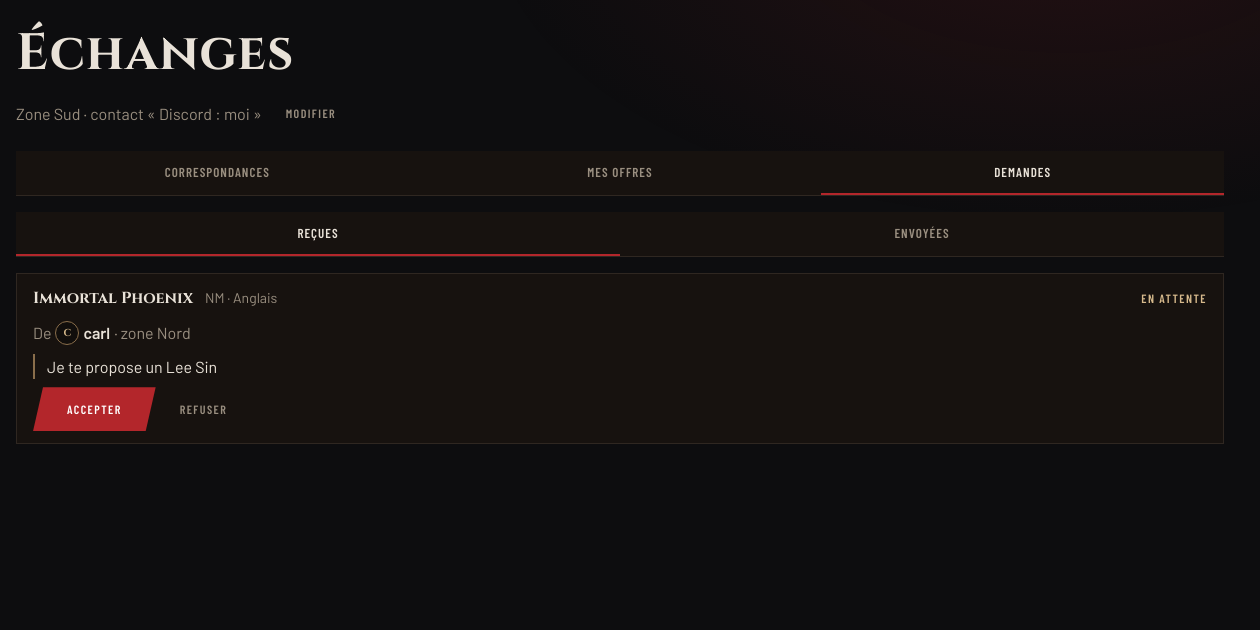
TradesView › liste les demandes, accepte et ne montre le contact qu'après accord
This screenshot has width=1260, height=630.
Expected: the list item with class "demande" shows "carl", [55, 320, 110, 346]
Expected: the list item with class "demande" shows "Je te propose un Lee Sin", [47, 357, 217, 376]
Click the button "Accepter". click: (94, 409)
box: [33, 387, 156, 431]
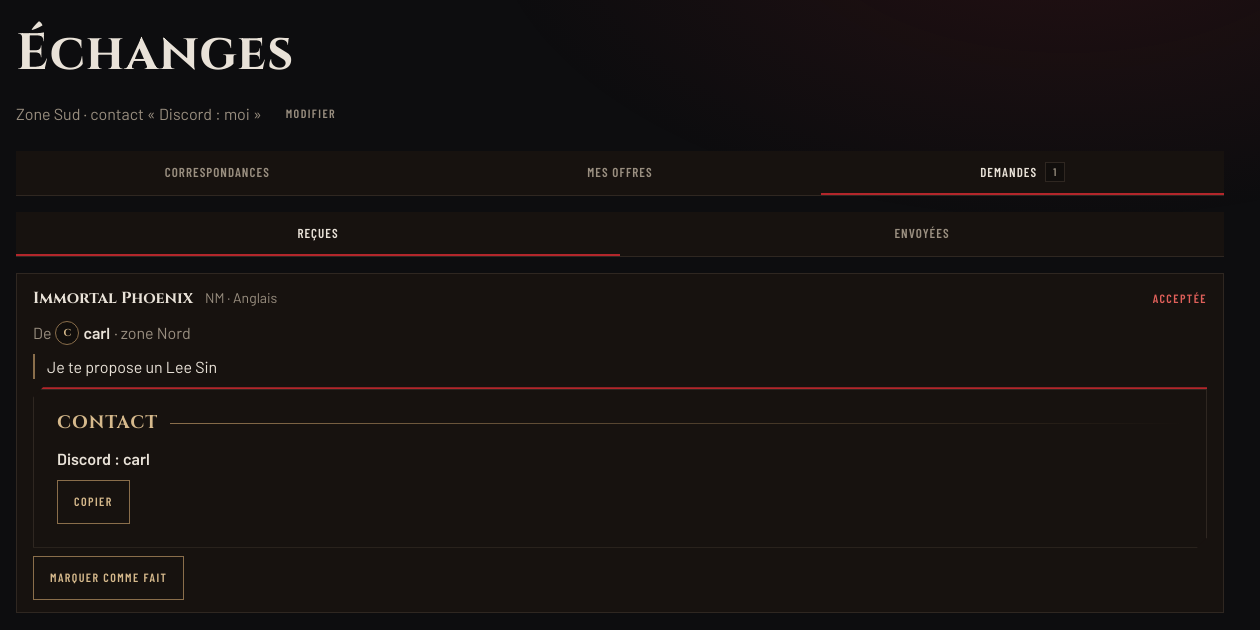
Expected: the list item with class "demande" shows "Discord : carl", [57, 449, 150, 468]
Click the tab "Envoyées". click: (922, 234)
box: [620, 212, 1224, 256]
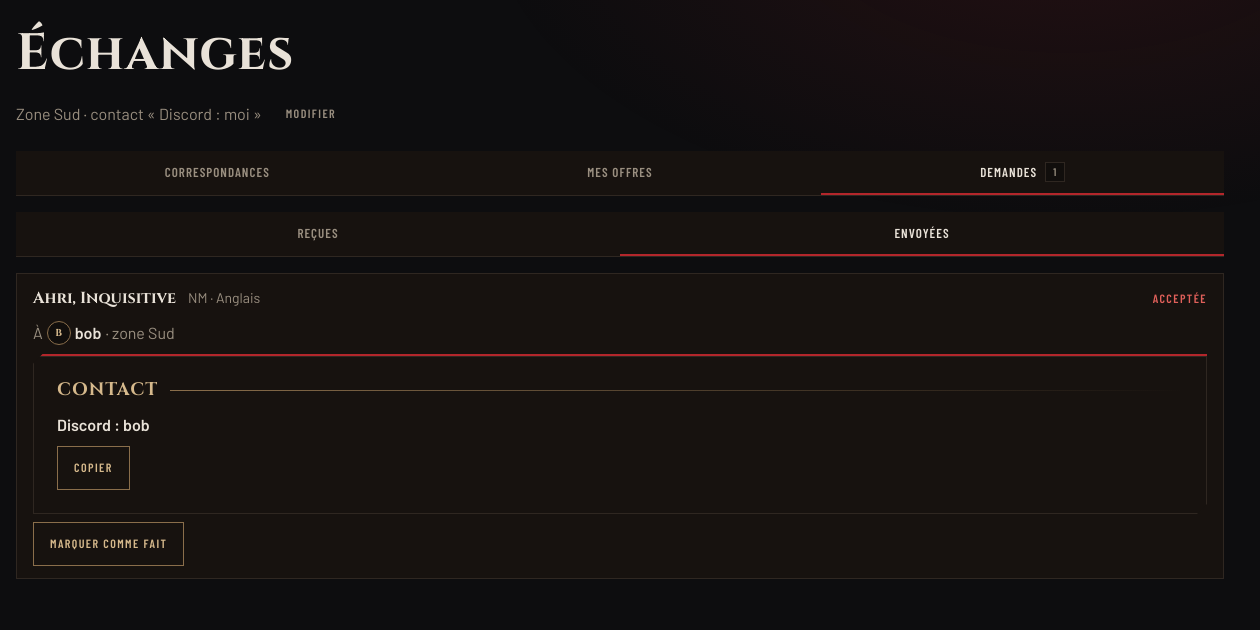
Expected: the button "Marquer comme fait" is shown, [33, 522, 184, 566]
Expected: the list item with class "demande" shows "Discord : bob", [57, 416, 150, 434]
